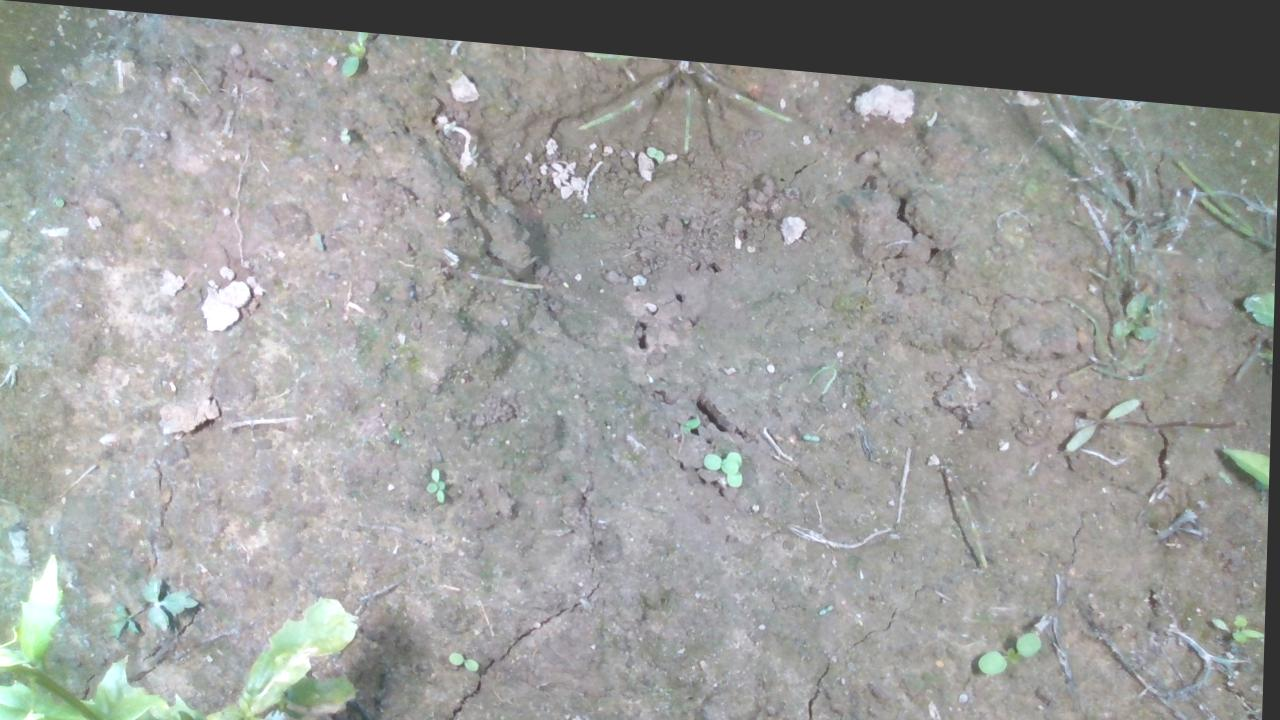weed: (978, 607, 1047, 661), (421, 454, 461, 492), (448, 639, 484, 664)
